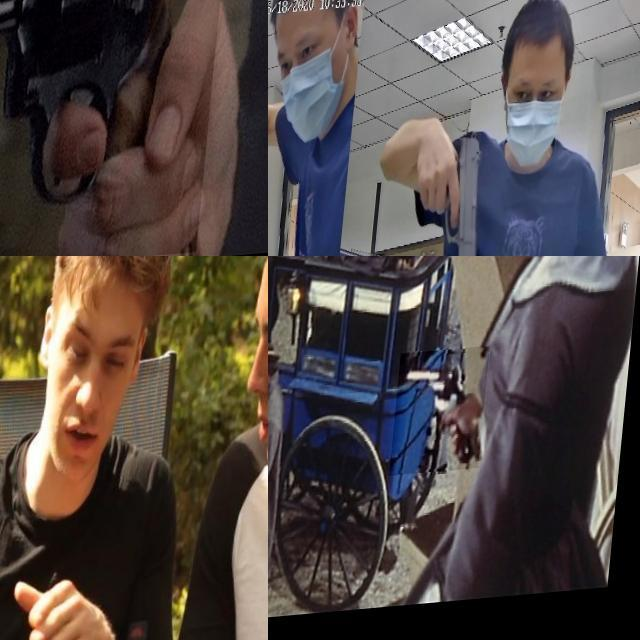gun-knife-thesis - v11 Yolov5 augmented: (0, 0, 241, 256), (400, 356, 498, 484), (416, 138, 502, 256), (268, 124, 302, 256), (465, 0, 535, 38), (268, 0, 286, 35)
